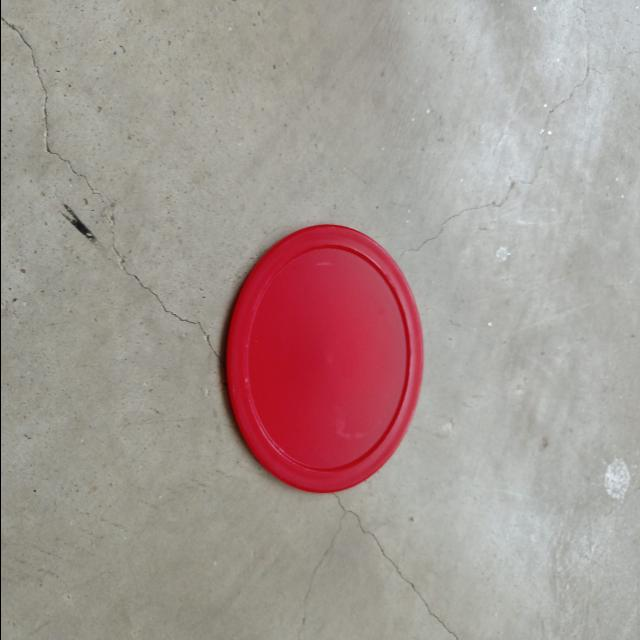chip: (226, 222, 424, 496)
